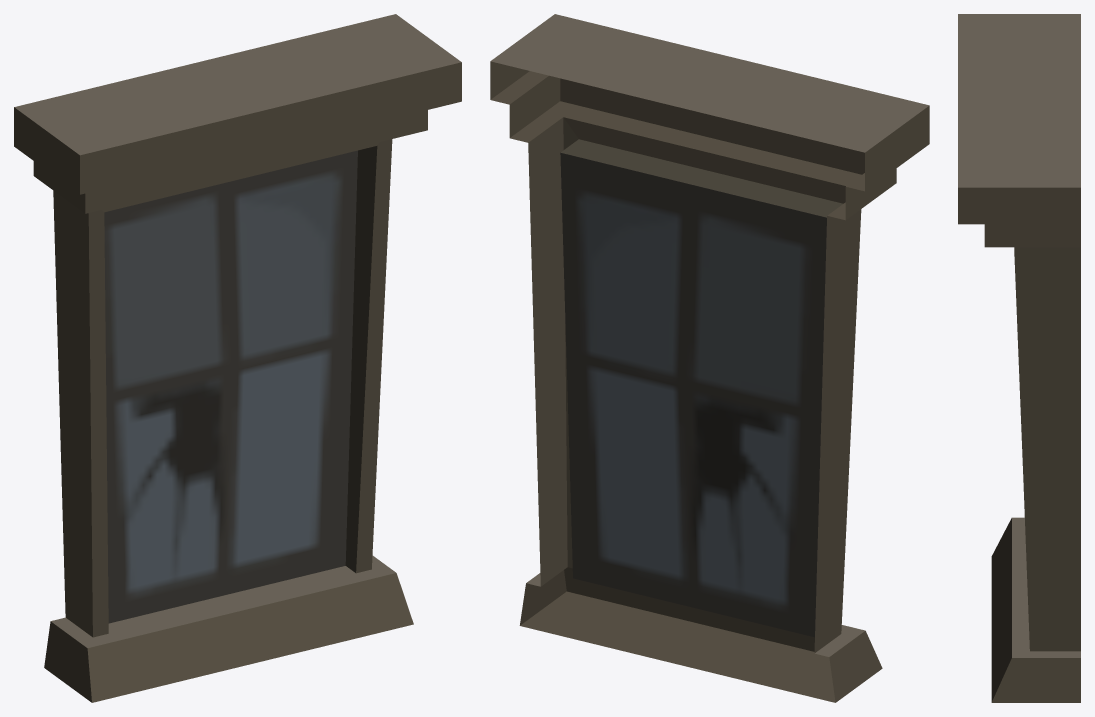
The model's file is Window_C09.fbx.
3 renders of one model, left to right at view 1: azimuth 30°, elevation 25°; view 2: azimuth 150°, elevation 25°; view 3: azimuth 270°, elevation 25°, orthographic. The views are drawn at different scales.
Visible parts, largest first — view 1: Window_C09; view 2: Window_C09; view 3: Window_C09.
Part boxes in pixels (x1=…): Window_C09: x1=14, y1=14, x2=461, y2=702; Window_C09: x1=490, y1=14, x2=929, y2=702; Window_C09: x1=958, y1=14, x2=1080, y2=702.
Size of the model in its own units: 191 by 271 by 56.94.
